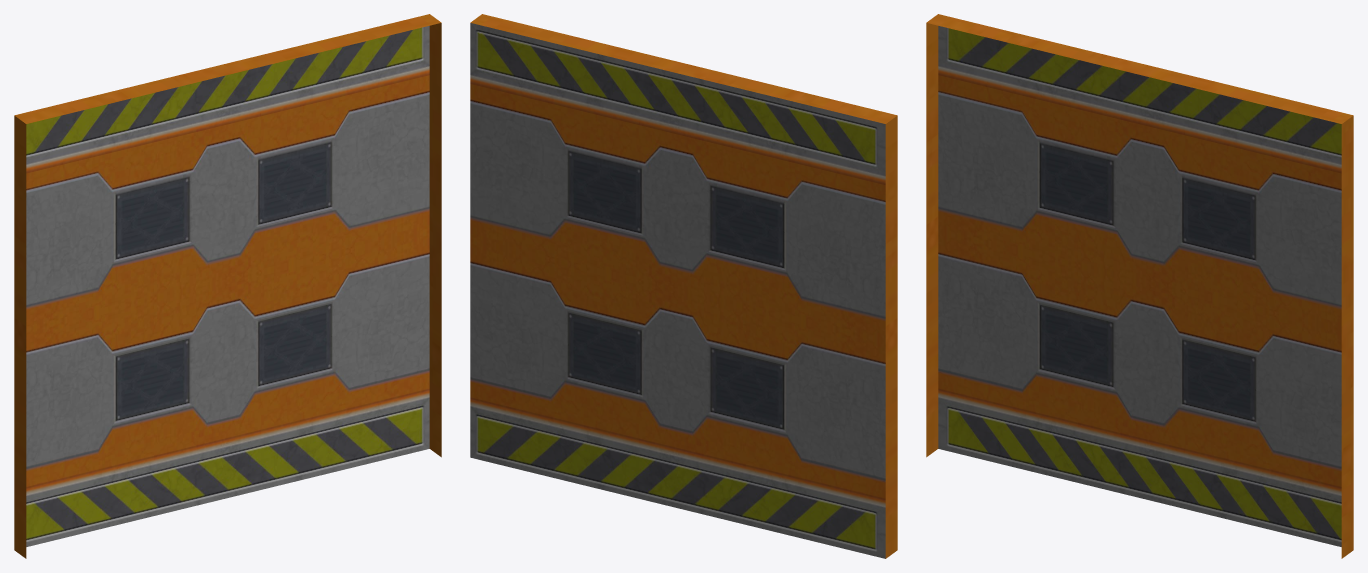
Rendered from BloqueInicio.fbx.
The picture shows the model from 3 angles, left to right: view 1: azimuth 30°, elevation 25°; view 2: azimuth 150°, elevation 25°; view 3: azimuth 330°, elevation 25°; orthographic projection.
Visible parts, largest first — view 1: Recto; view 2: Recto; view 3: Recto.
Boxes of the visible parts, x1=… form: Recto: x1=14, y1=14, x2=441, y2=558; Recto: x1=470, y1=14, x2=897, y2=558; Recto: x1=926, y1=14, x2=1353, y2=558.
Size of the model in its own units: 10 by 10 by 0.5.
